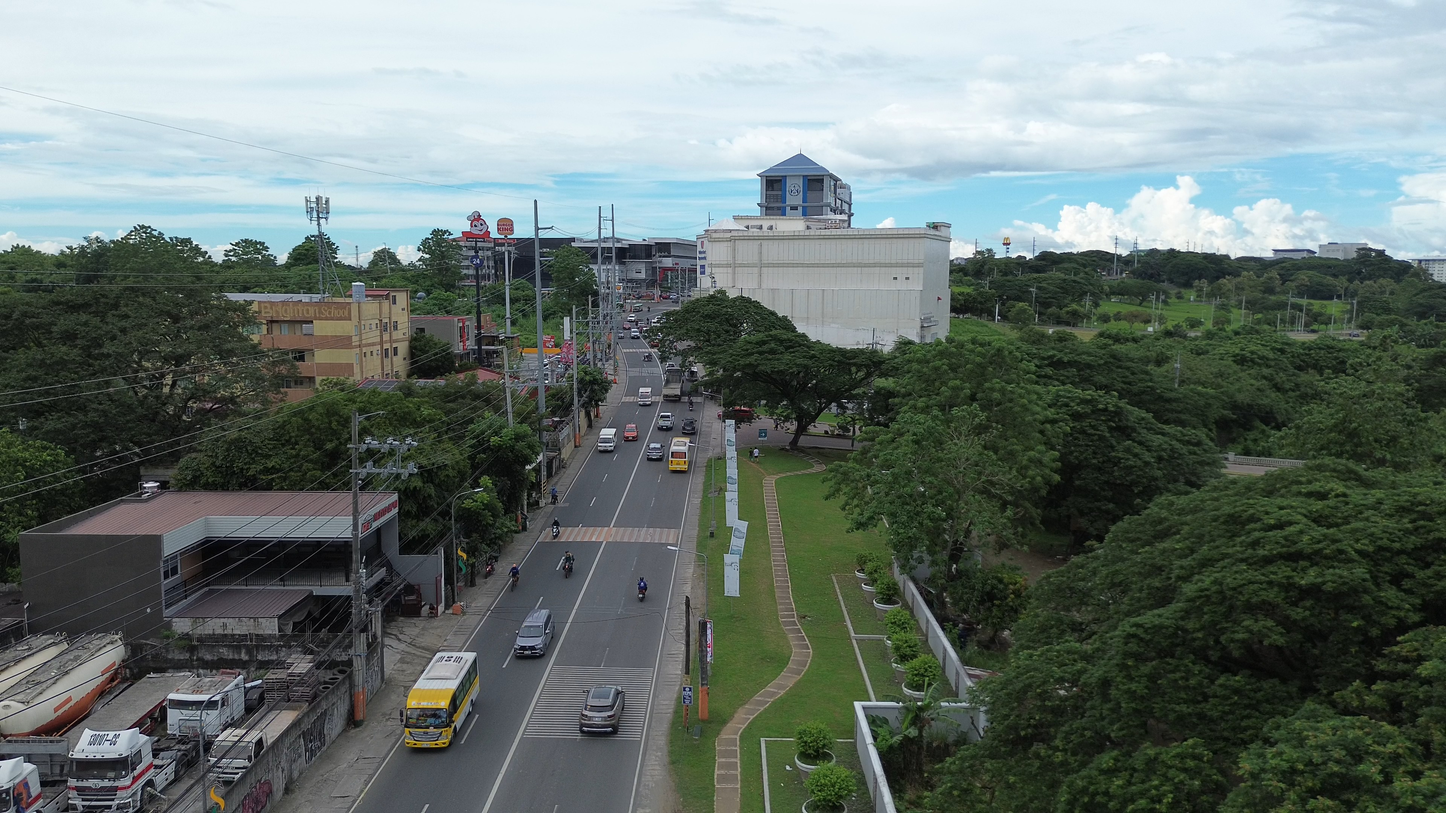bus: (403, 652, 479, 747), (668, 437, 690, 471)
car: (578, 685, 625, 733), (622, 425, 638, 441), (630, 328, 641, 339), (648, 339, 659, 348)
motorcycle: (483, 557, 496, 579), (551, 521, 560, 540), (510, 574, 520, 591), (563, 561, 573, 578)
truck: (0, 757, 68, 813)
vehicle: (0, 633, 124, 736), (69, 728, 196, 813), (208, 703, 305, 783), (167, 670, 244, 737), (0, 633, 68, 694), (514, 608, 554, 656), (662, 363, 683, 401), (718, 406, 755, 423), (597, 428, 617, 452), (656, 412, 674, 430), (646, 443, 665, 460), (637, 387, 653, 405), (680, 417, 696, 434), (630, 328, 641, 339), (648, 339, 659, 348), (642, 353, 652, 361)
